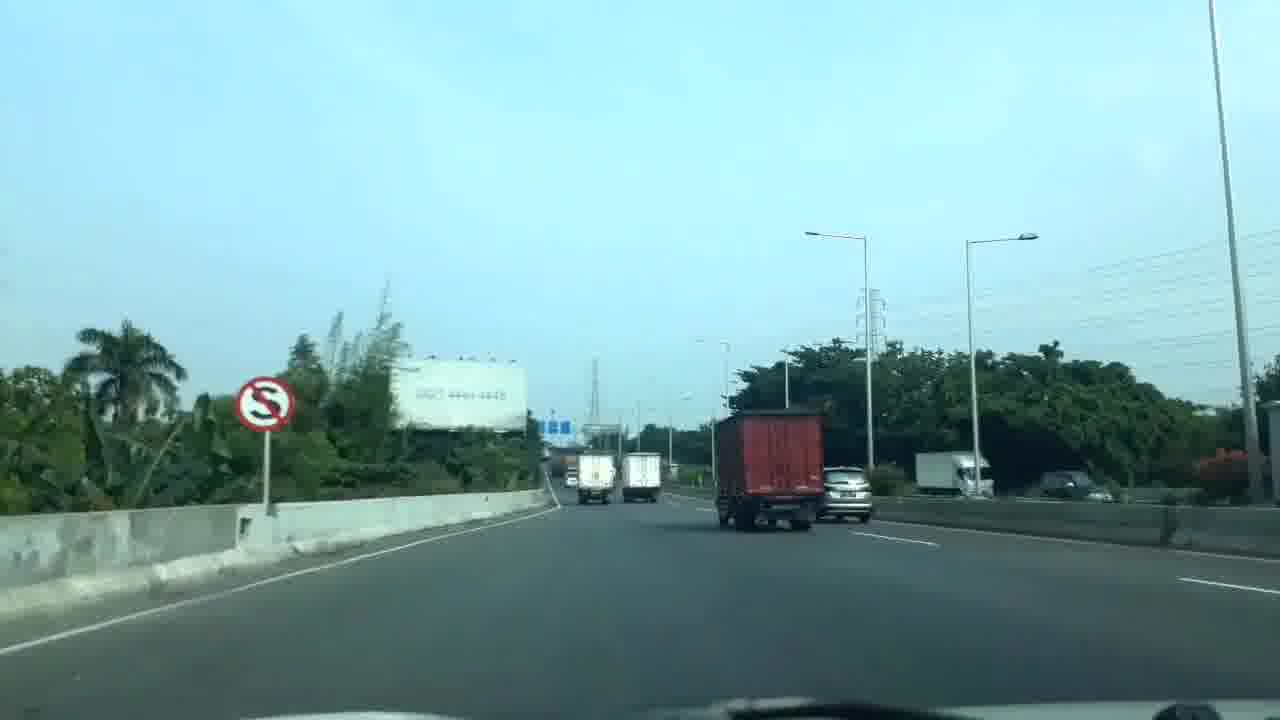plate_positive: (839, 491, 856, 497)
